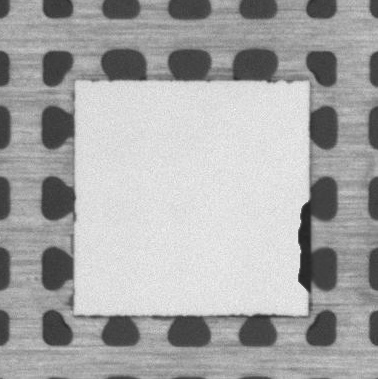DIE_BROKEN: (295, 199, 313, 294)
